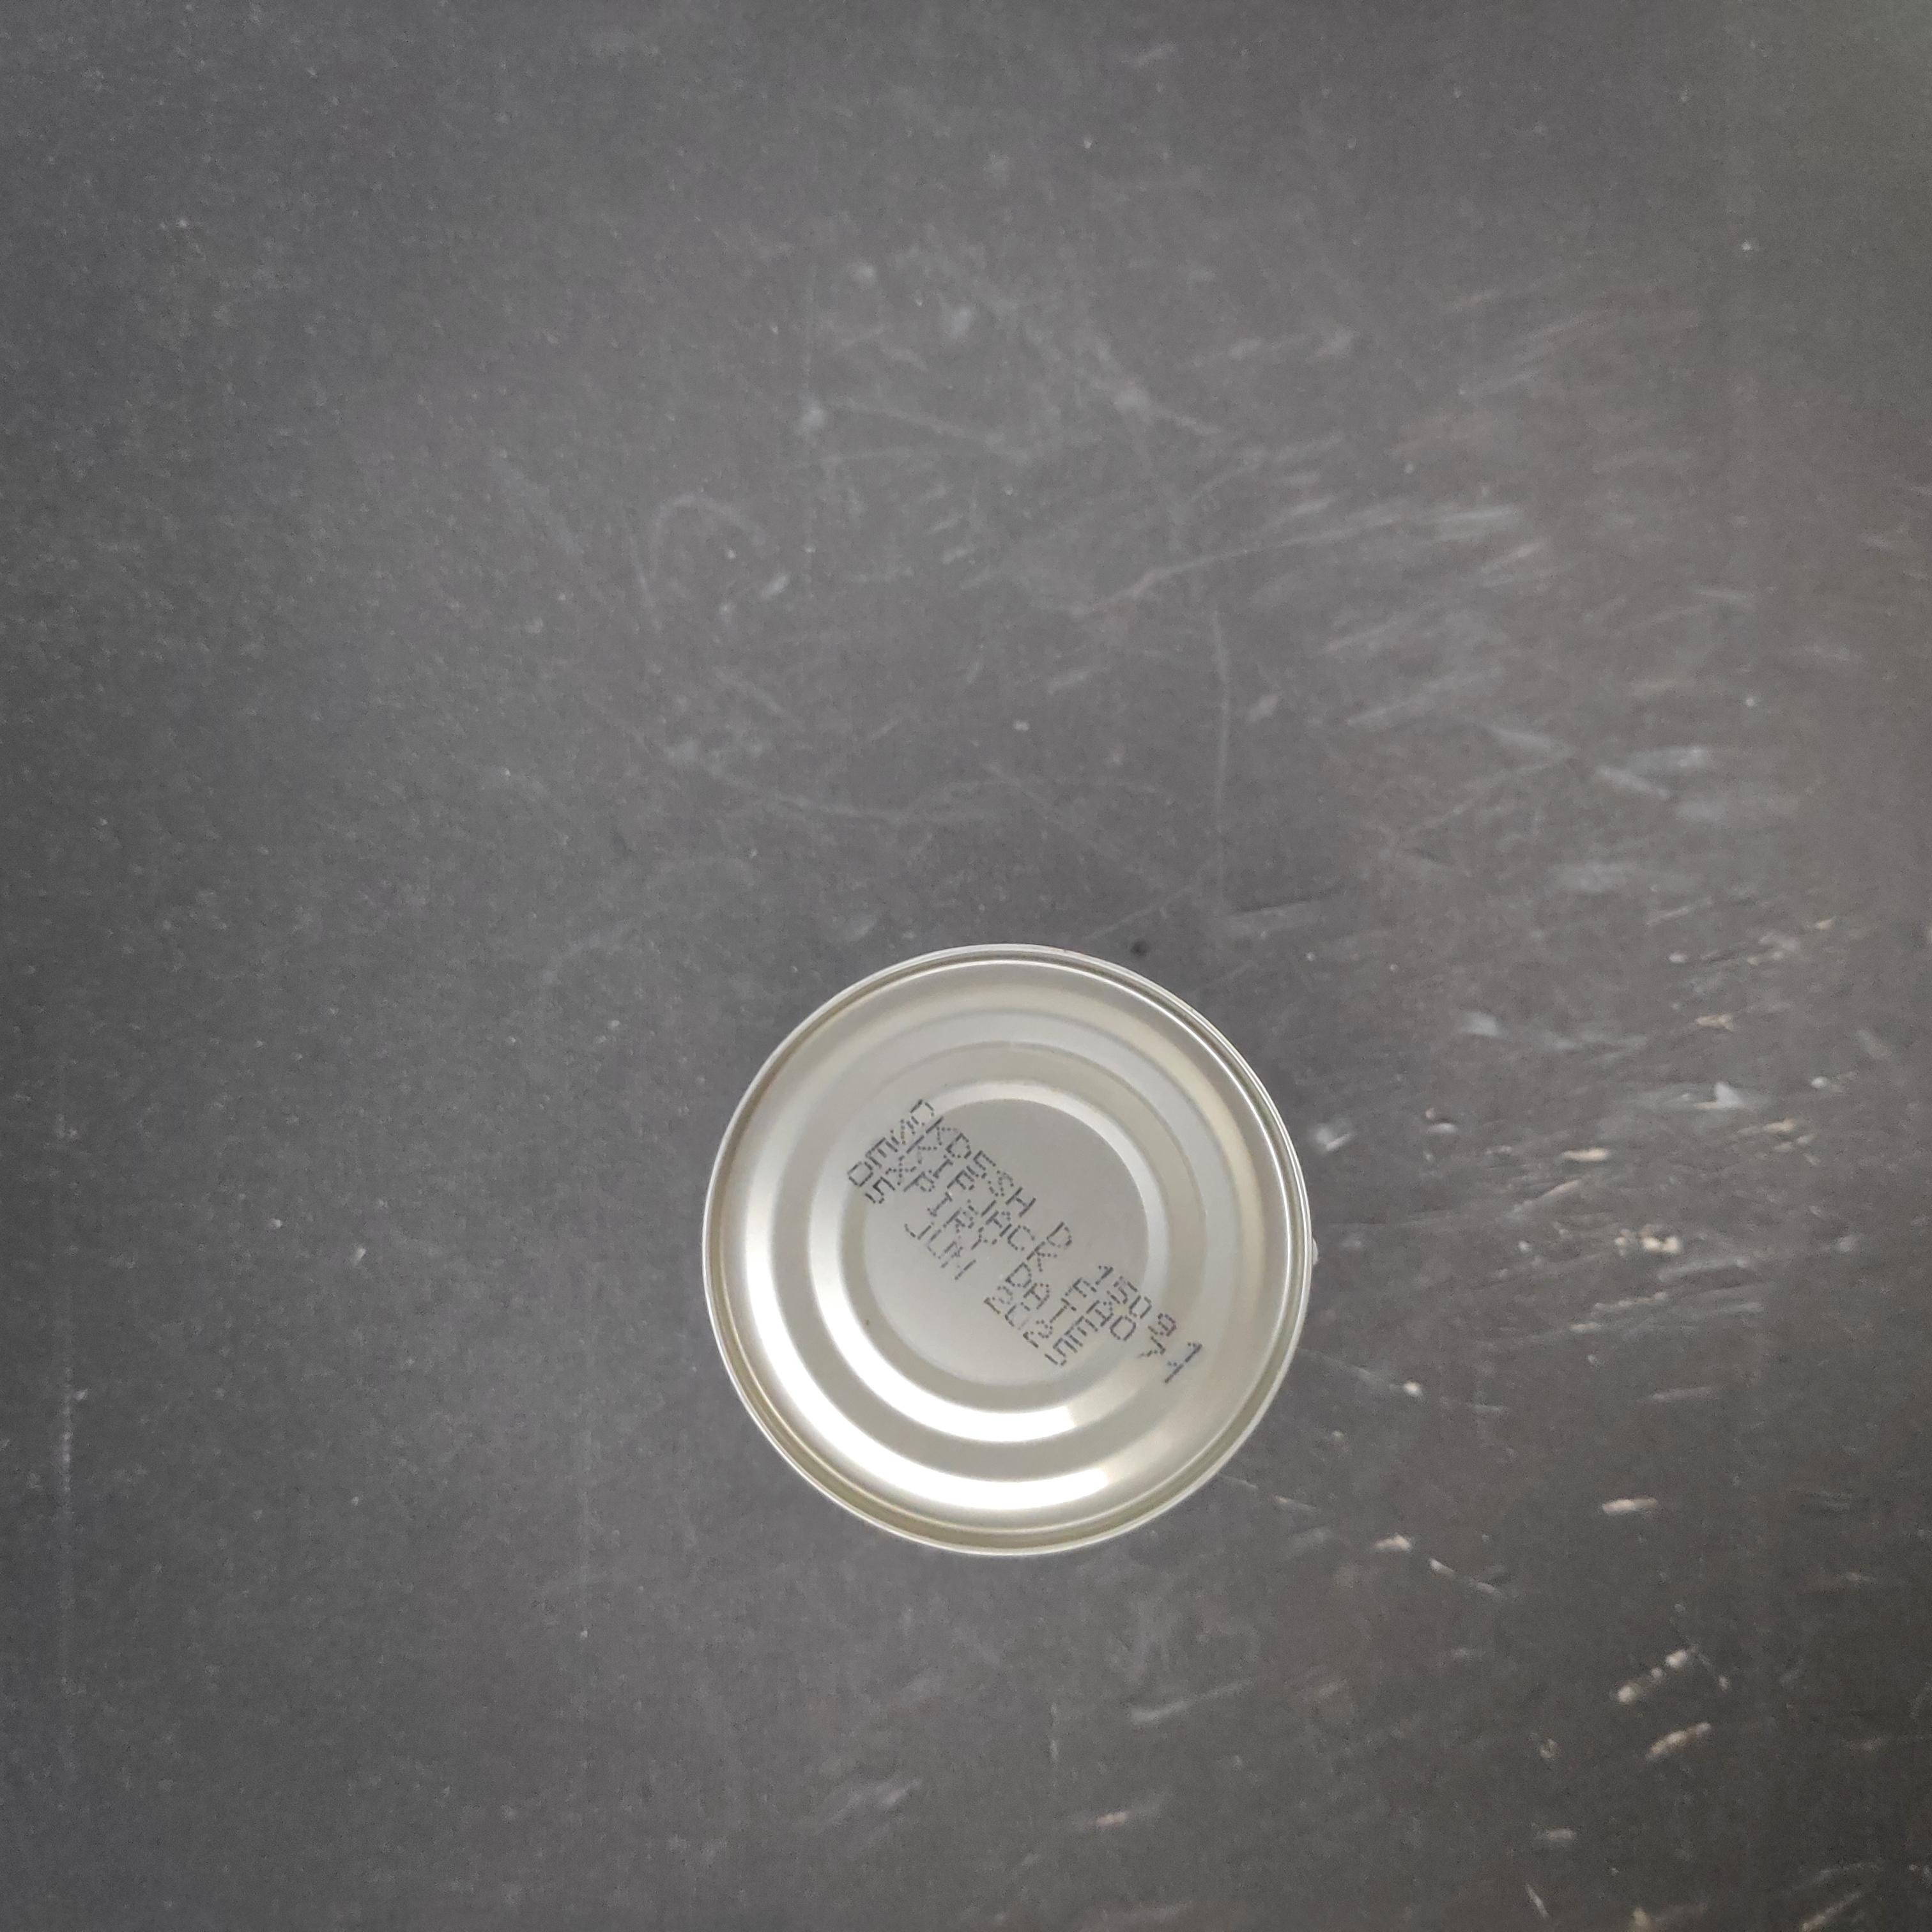No defect: (616, 373, 1231, 991)
